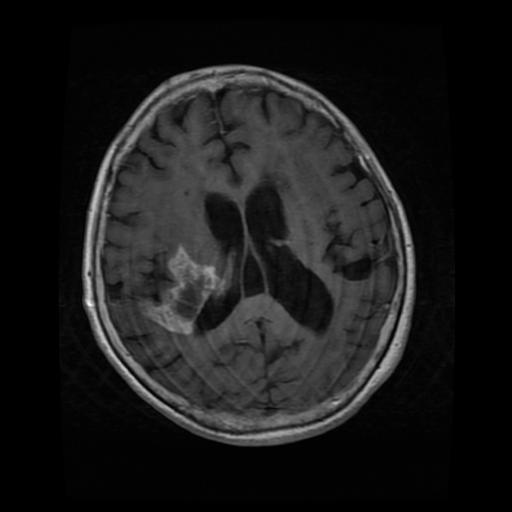Gliomia_tumour: (137, 241, 226, 332)
